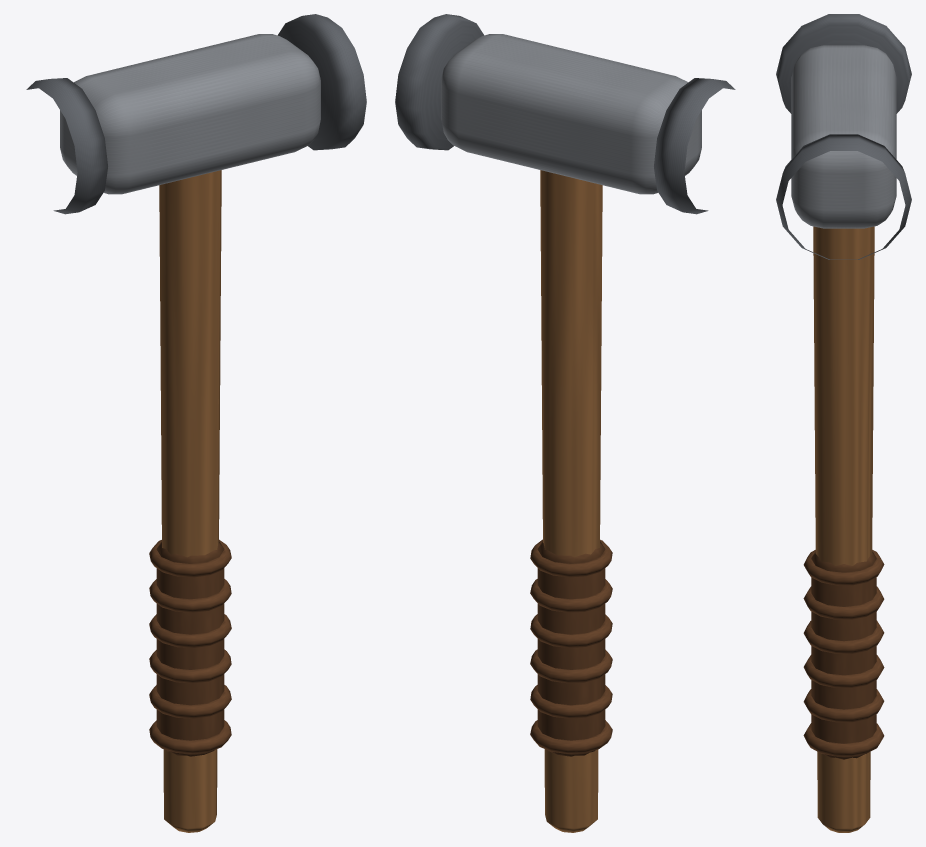
Rendered from hammer.glb.
The picture shows the model from 3 angles, left to right: view 1: azimuth 30°, elevation 25°; view 2: azimuth 150°, elevation 25°; view 3: azimuth 270°, elevation 25°; orthographic projection. The views are drawn at different scales.
Visible parts, largest first — view 1: head, haft, grip; view 2: head, haft, grip; view 3: head, haft, grip.
Part boxes in pixels (bbox=[...]): head: bbox=[26, 14, 366, 214]; haft: bbox=[159, 170, 221, 832]; grip: bbox=[149, 539, 231, 756]; head: bbox=[395, 14, 735, 214]; haft: bbox=[540, 170, 602, 832]; grip: bbox=[530, 539, 612, 756]; head: bbox=[776, 14, 911, 259]; haft: bbox=[813, 226, 874, 832]; grip: bbox=[803, 550, 884, 759].
Size of the model in its own units: 0.2 by 0.5109 by 0.084.
4 materials, 4 textured.
